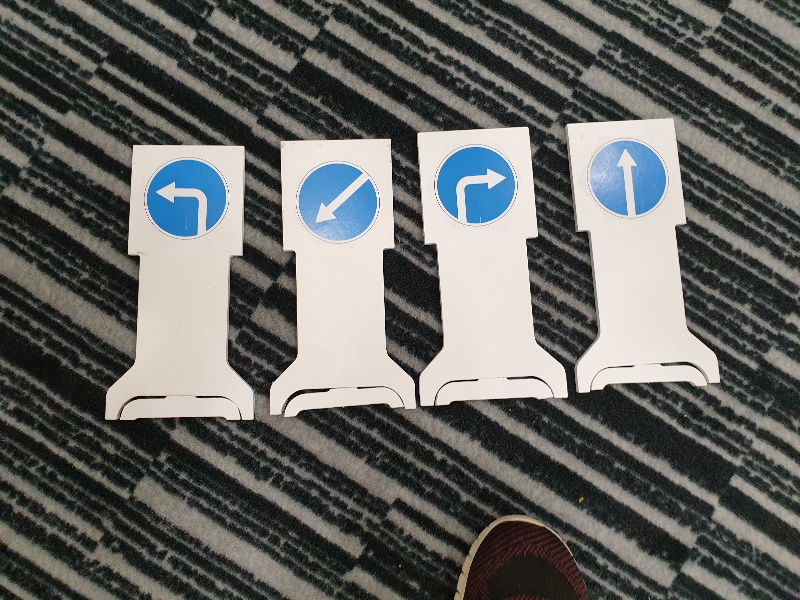Left: (138, 154, 234, 245)
Right: (428, 143, 524, 234)
forw: (580, 133, 676, 224)
prep: (288, 156, 384, 247)
